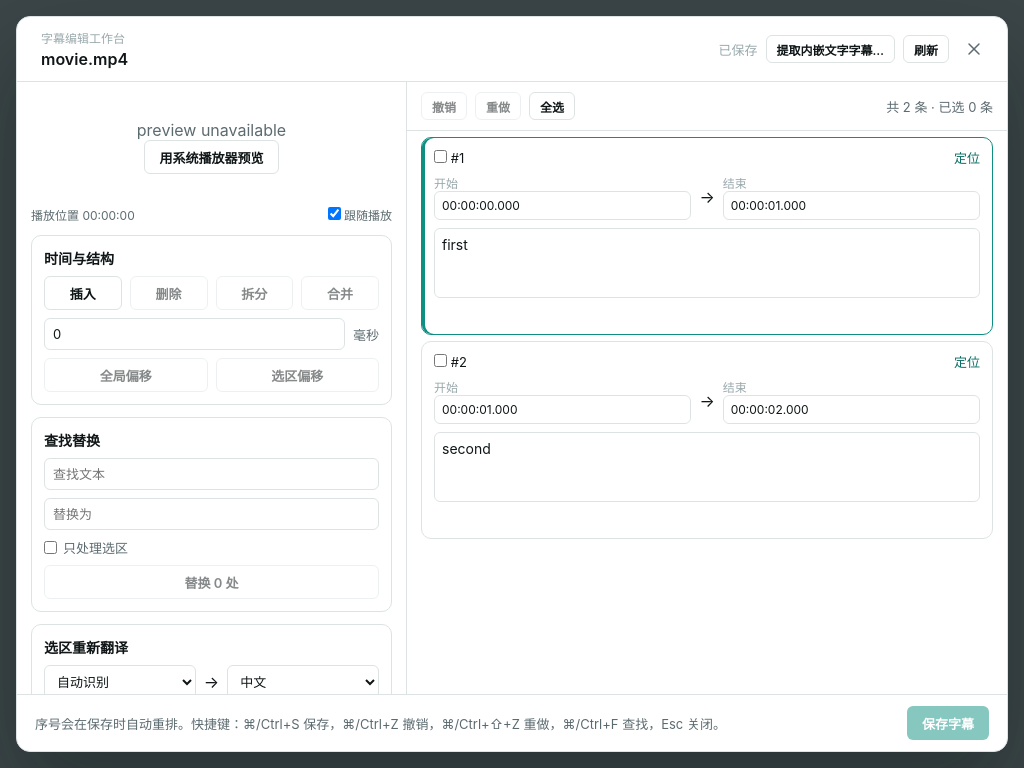
it: SubtitleWorkbench 容错（D-PC15） › MEDIA-06 保存被后端拒绝时跳到第一个问题并说出是第几条
Replace the text in the text box with test id "entry-text-cue-2" with "changed" at (707, 467), box [434, 432, 980, 502]
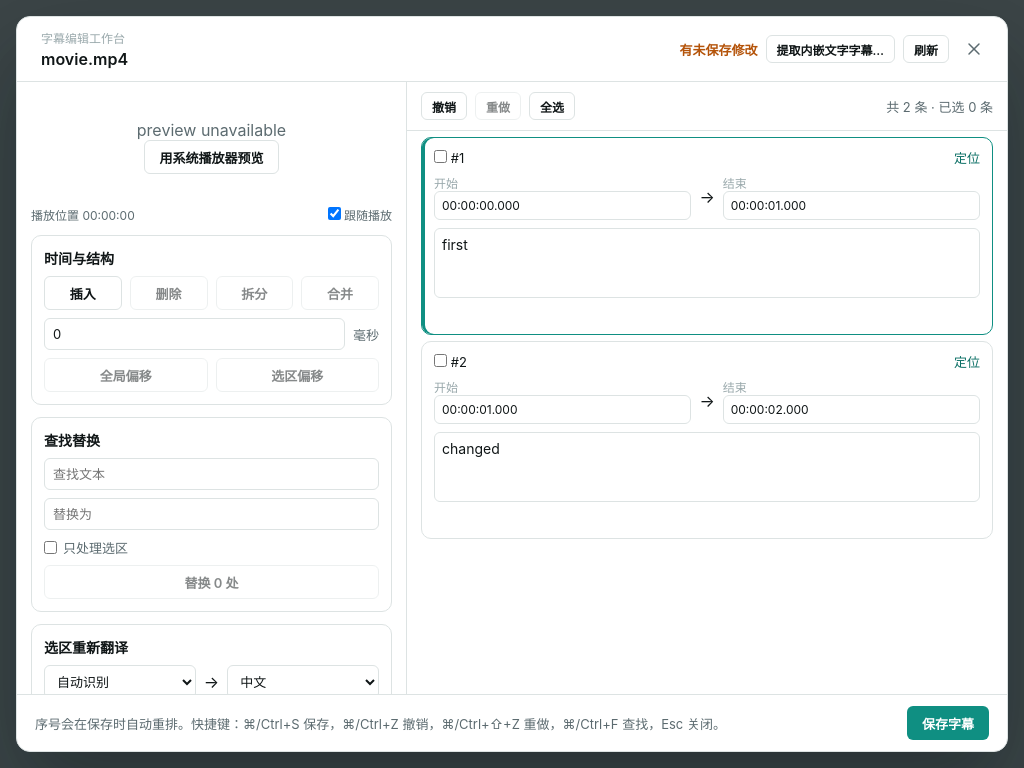
Click the button with test id "save-subtitle" at (948, 723), box [907, 706, 989, 740]
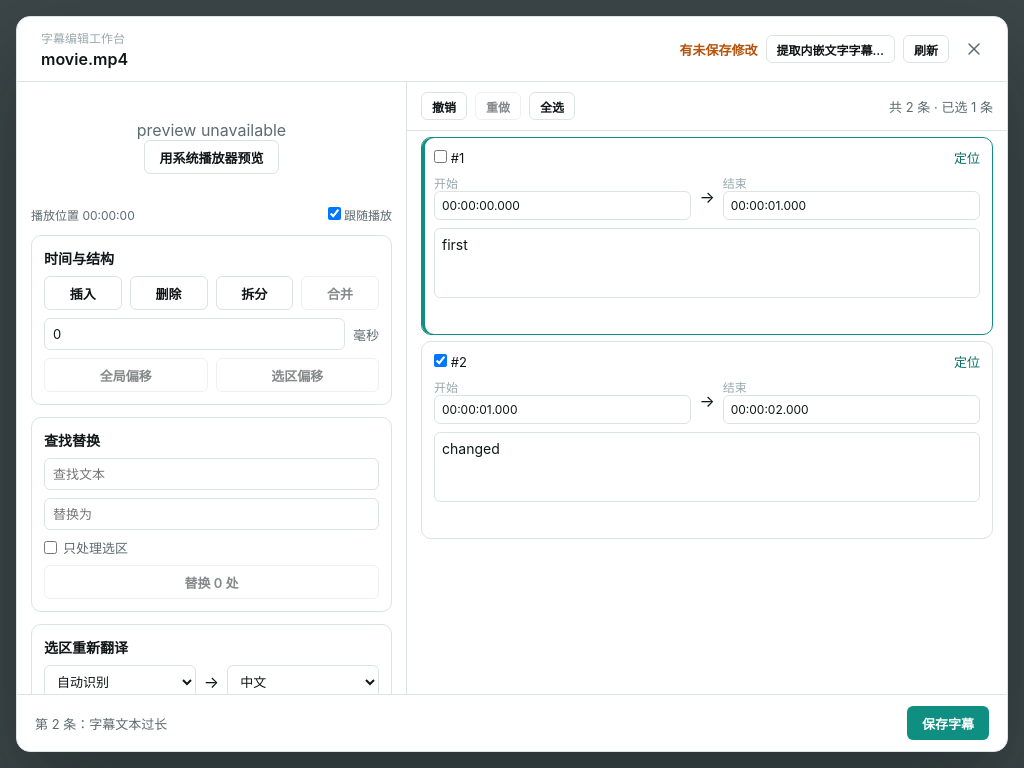
Result: the text "第 2 条：字幕文本过长" is shown at [35, 714, 167, 732]
